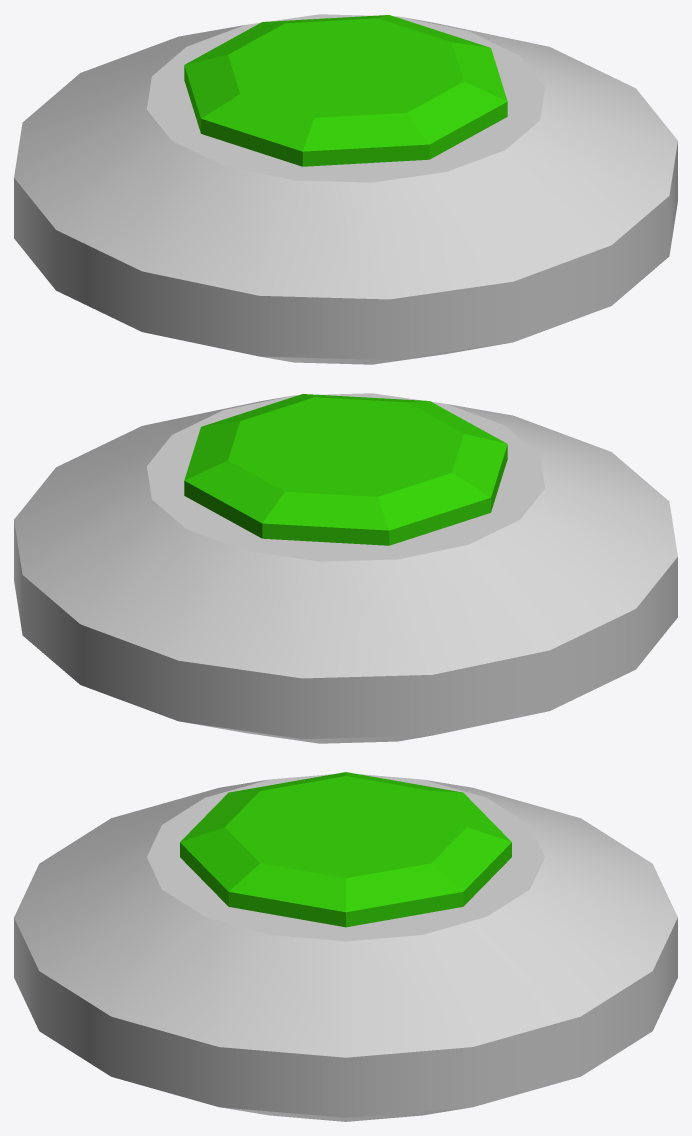
The model's file is General.fbx.
The picture shows the model from 3 angles, top to bottom: view 1: azimuth 30°, elevation 25°; view 2: azimuth 150°, elevation 25°; view 3: azimuth 270°, elevation 25°; orthographic projection.
Visible parts, largest first — view 1: Cylinder, Cylinder.002; view 2: Cylinder, Cylinder.002; view 3: Cylinder, Cylinder.002.
Part boxes in pixels (bbox=[...]): Cylinder: bbox=[14, 14, 677, 364]; Cylinder.002: bbox=[184, 15, 507, 166]; Cylinder: bbox=[14, 393, 677, 743]; Cylinder.002: bbox=[184, 394, 507, 545]; Cylinder: bbox=[14, 774, 677, 1121]; Cylinder.002: bbox=[180, 772, 511, 927].
Size of the model in its own units: 400 by 140 by 400.
